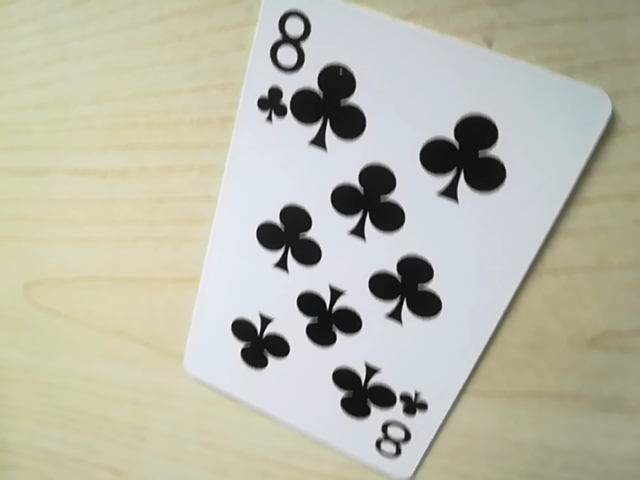mh 8: (251, 0, 322, 128), (362, 399, 431, 469)
